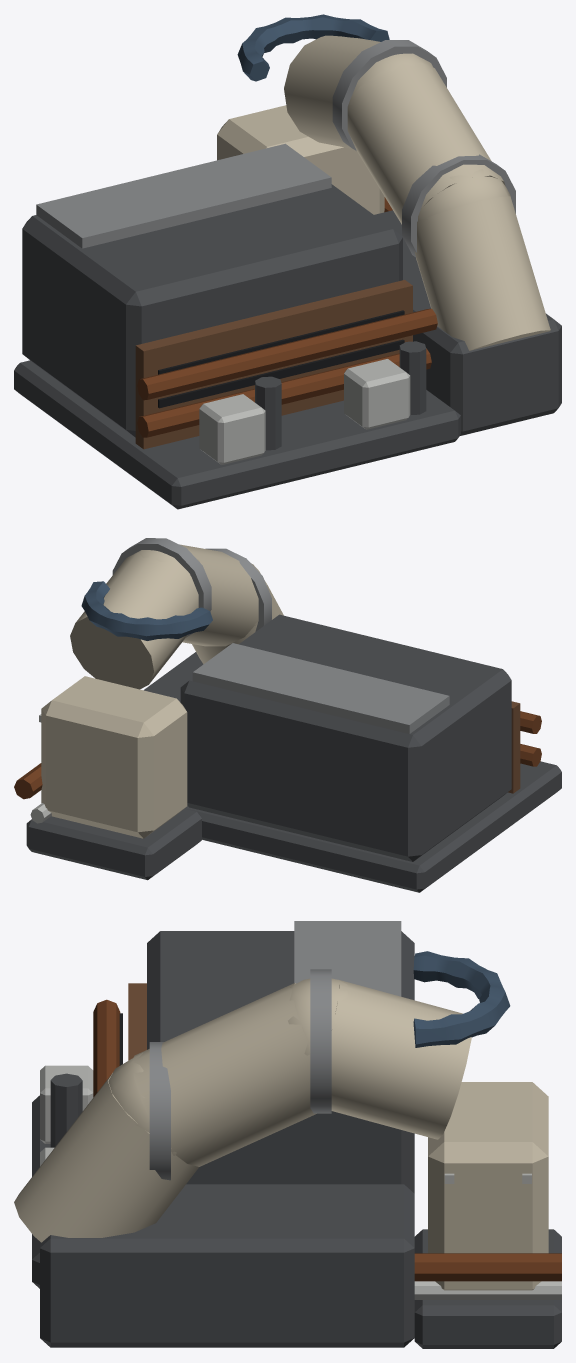
The model's file is cargo-bay-corner-se.glb.
The picture shows the model from 3 angles, top to bottom: view 1: azimuth 30°, elevation 25°; view 2: azimuth 150°, elevation 25°; view 3: azimuth 270°, elevation 25°; orthographic projection. The views are drawn at different scales.
Parts seen in each view (by area): view 1: body; view 2: body; view 3: body.
Part boxes in pixels (left/top/right/bottom): body: left=14, top=14, right=561, bottom=509; body: left=14, top=538, right=561, bottom=892; body: left=14, top=921, right=561, bottom=1348.
Size of the model in its own units: 2.03 by 1.42 by 2.05.
